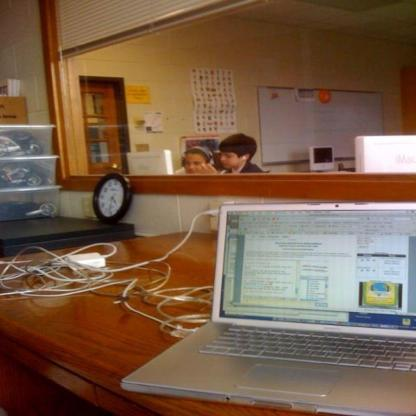board: (154, 193, 403, 410)
